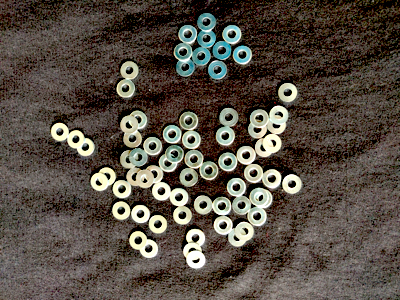circle: (248, 207, 268, 227), (162, 125, 182, 145), (278, 83, 298, 102), (262, 170, 282, 189), (233, 45, 252, 65), (222, 25, 242, 44), (212, 41, 232, 60), (219, 108, 239, 127), (248, 120, 268, 139), (244, 164, 264, 183), (219, 152, 238, 172), (184, 150, 204, 169), (129, 110, 148, 130), (236, 222, 255, 242), (283, 175, 302, 194), (270, 106, 289, 125), (268, 115, 287, 134), (263, 134, 282, 153), (208, 61, 227, 80), (176, 58, 195, 77), (178, 25, 197, 44), (216, 127, 235, 146), (237, 146, 256, 165), (250, 109, 269, 128), (173, 206, 192, 225), (250, 188, 269, 207), (179, 111, 198, 130), (165, 145, 184, 164), (170, 188, 189, 207), (152, 182, 171, 201), (126, 168, 145, 187), (143, 137, 162, 156), (116, 79, 135, 98), (129, 148, 148, 167), (120, 150, 139, 169), (112, 201, 131, 220), (131, 205, 150, 224), (129, 231, 148, 250), (194, 196, 213, 215), (227, 178, 246, 197), (233, 196, 252, 215), (214, 216, 233, 235), (192, 47, 211, 66), (197, 30, 217, 48), (253, 190, 273, 208), (140, 239, 158, 259), (124, 129, 142, 149), (255, 139, 274, 157), (197, 13, 216, 31), (174, 43, 193, 61), (187, 229, 205, 248), (159, 154, 177, 173), (180, 168, 198, 187), (136, 170, 154, 189), (120, 62, 139, 80), (113, 180, 131, 199), (149, 215, 167, 234), (213, 197, 232, 215), (91, 173, 109, 192), (77, 137, 95, 156), (51, 122, 69, 141), (121, 115, 139, 134), (187, 251, 205, 269), (200, 162, 218, 180), (183, 131, 201, 149), (145, 166, 163, 184), (229, 229, 247, 247), (184, 243, 202, 261), (98, 168, 116, 186), (68, 130, 85, 149)
